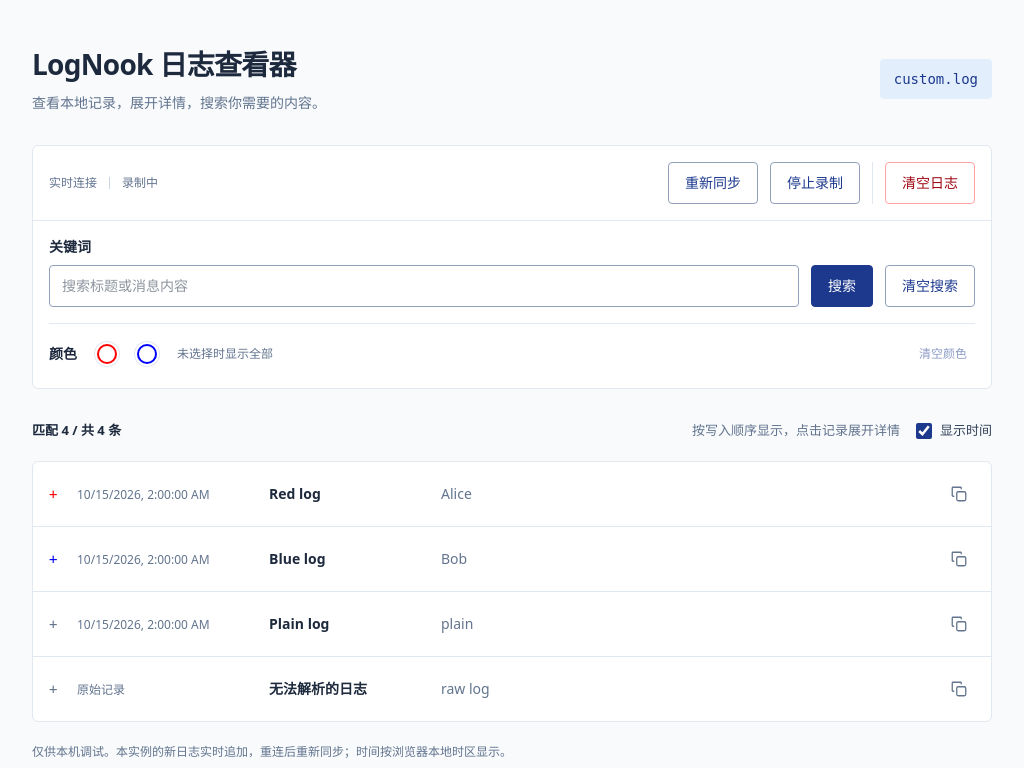
shows color rings, adds a center dot on selection and supports multiple colors and clearing
Expected: the text "匹配 4 / 共 4 条" is shown, [32, 422, 121, 440]
Click the button named "筛选颜色 red" at {"x": 107, "y": 354}, box [89, 336, 125, 372]
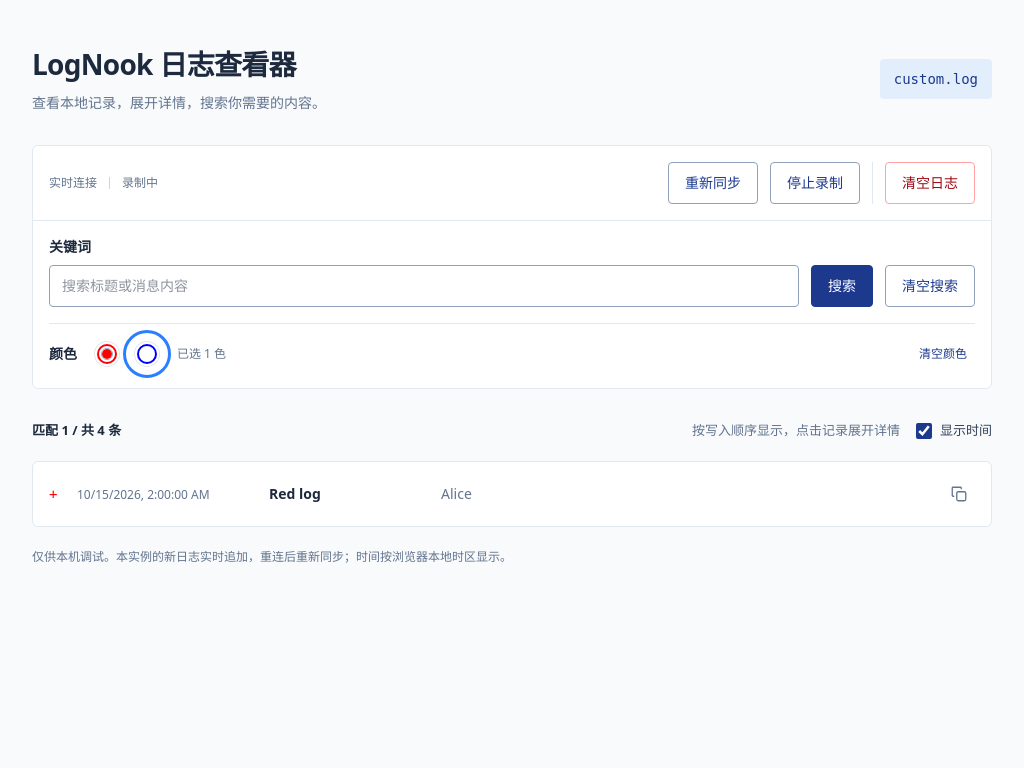
Now the heading "Blue log" is gone
Now the heading "Plain log" is gone
Now the text "匹配 1 / 共 4 条" is shown, box [32, 422, 121, 440]
Type keys "[Space]"
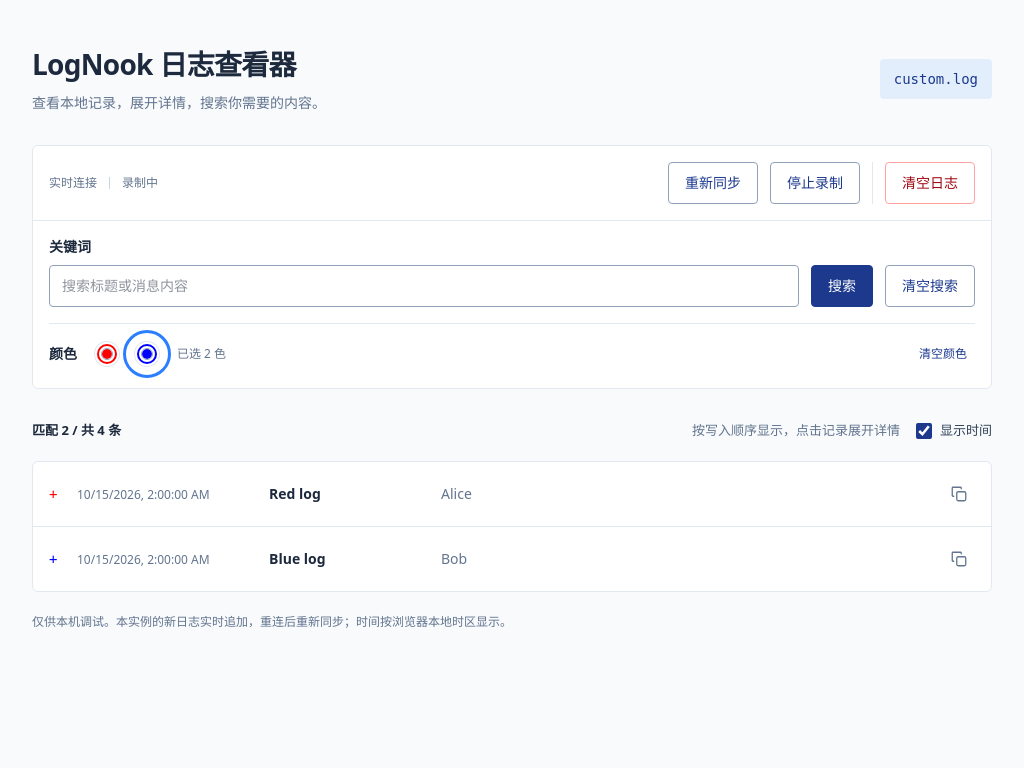
Now the text "Blue log" is shown, box [269, 549, 326, 568]
Now the text "匹配 2 / 共 4 条" is shown, box [32, 422, 121, 440]
Click the button "清空颜色" at {"x": 943, "y": 354}, box [911, 336, 975, 372]
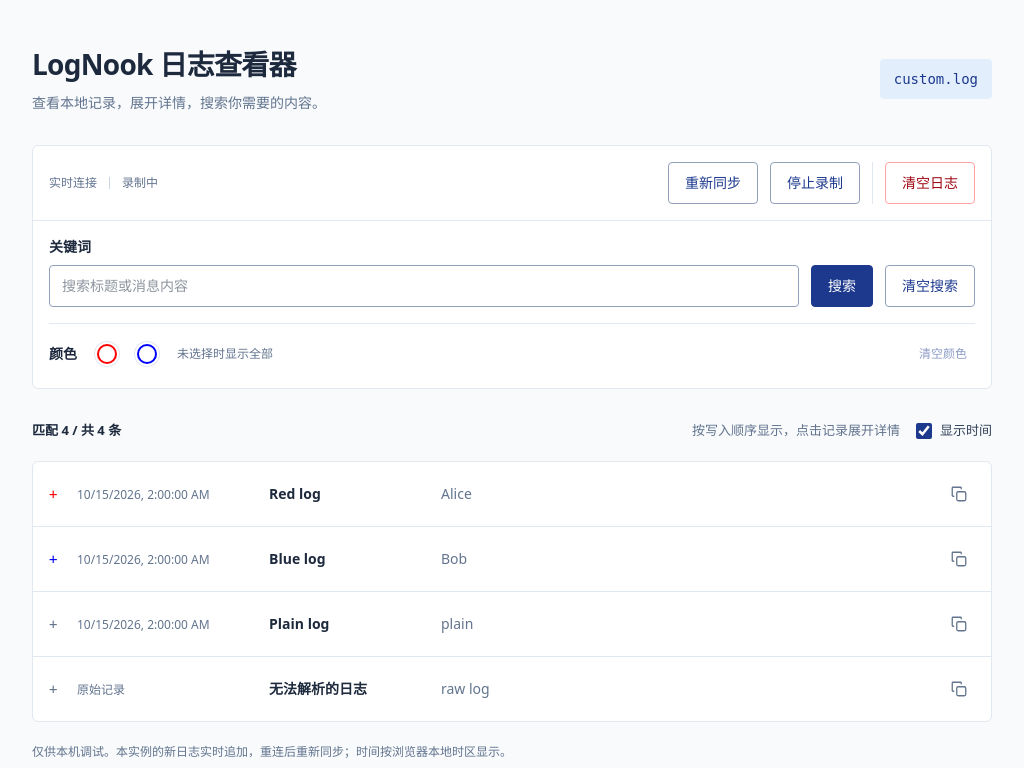
Now the text "Plain log" is shown, box [269, 614, 329, 633]
Now the text "匹配 4 / 共 4 条" is shown, box [32, 422, 121, 440]
Click the button named "筛选颜色 red" at {"x": 107, "y": 354}, box [89, 336, 125, 372]
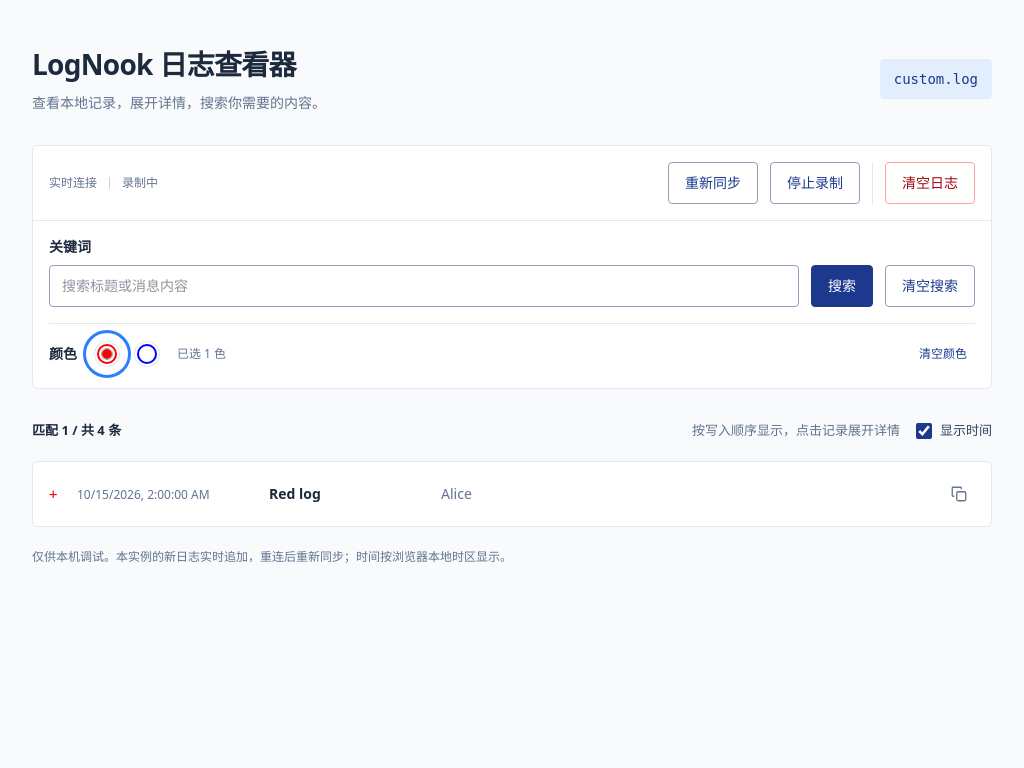
Click the button named "筛选颜色 red" at {"x": 107, "y": 354}, box [89, 336, 125, 372]
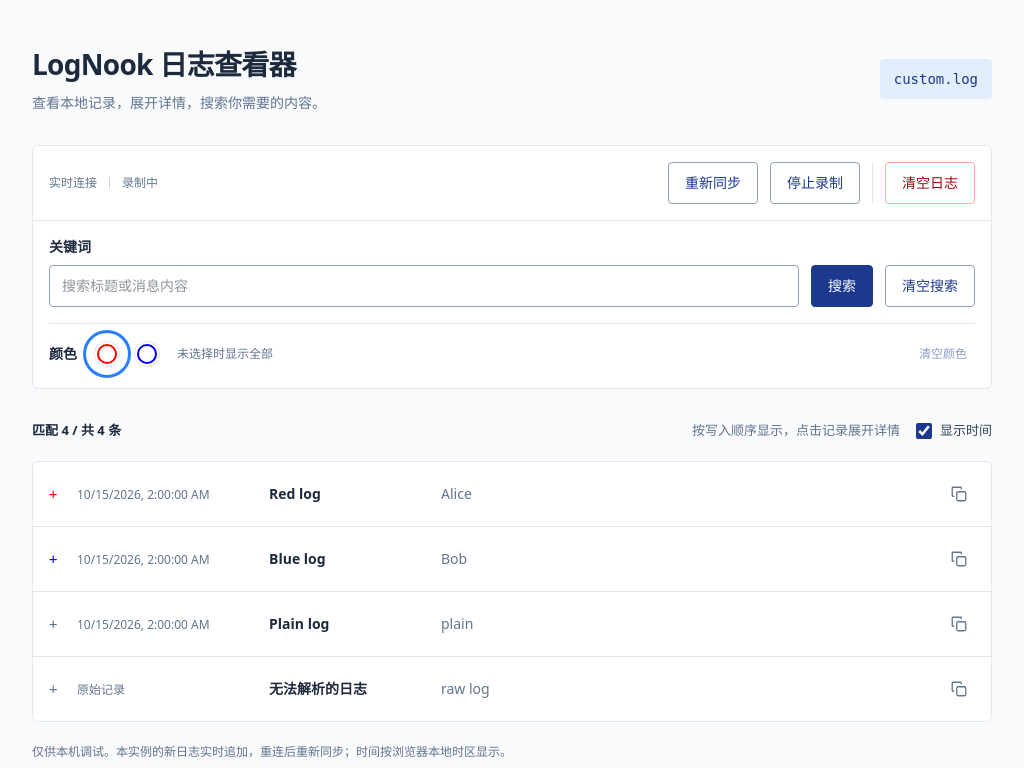
Now the text "匹配 4 / 共 4 条" is shown, box [32, 422, 121, 440]
